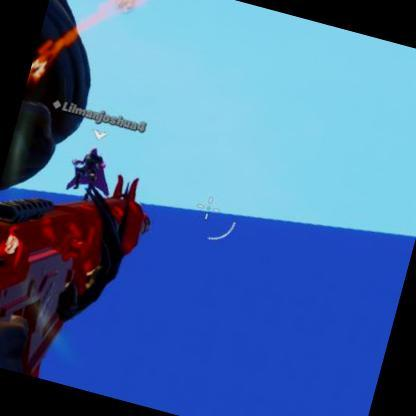person: (74, 144, 104, 195)
